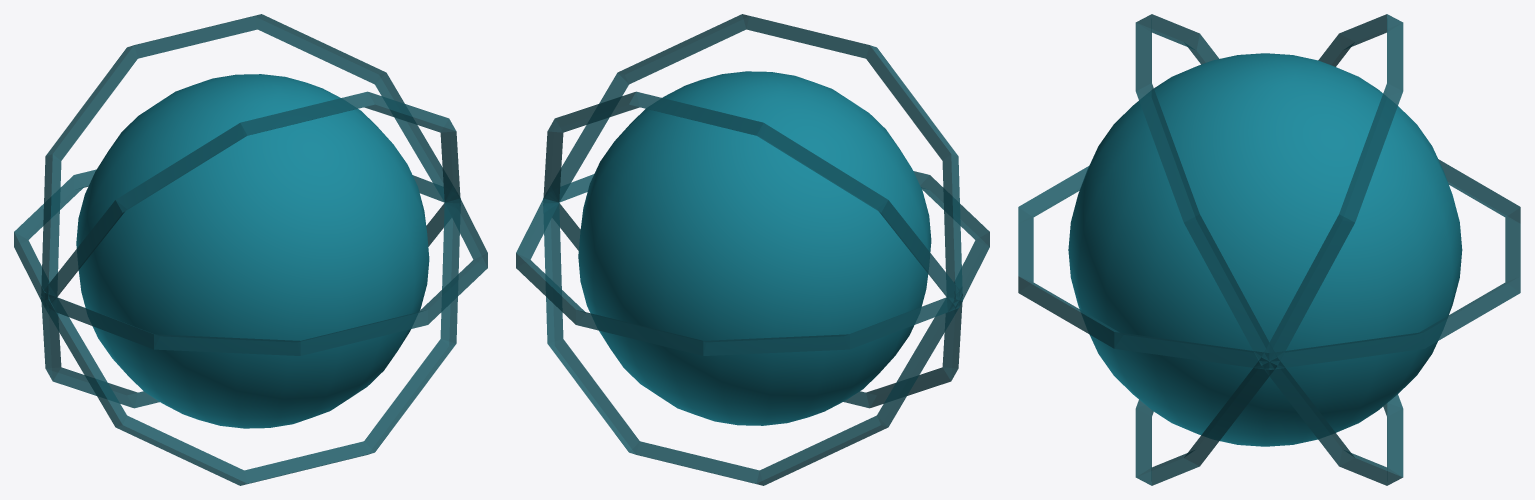
File: FirstStage.fbx
The picture shows the model from 3 angles, left to right: view 1: azimuth 30°, elevation 25°; view 2: azimuth 150°, elevation 25°; view 3: azimuth 270°, elevation 25°; orthographic projection. The views are drawn at different scales.
Parts seen in each view (by area): view 1: pSphere9, pTorus7, pTorus8, pTorus6; view 2: pSphere9, pTorus8, pTorus7, pTorus6; view 3: pSphere9, pTorus6, pTorus8, pTorus7.
Boxes of the visible parts, box(x1,y1,x2,y2) form: pSphere9: box(76, 74, 429, 428); pTorus7: box(41, 14, 460, 485); pTorus8: box(41, 91, 460, 408); pTorus6: box(14, 169, 487, 355); pSphere9: box(578, 71, 931, 425); pTorus8: box(543, 14, 962, 485); pTorus7: box(543, 91, 962, 408); pTorus6: box(516, 171, 989, 355); pSphere9: box(1068, 53, 1462, 446); pTorus6: box(1018, 159, 1520, 369); pTorus8: box(1135, 14, 1403, 485); pTorus7: box(1135, 14, 1403, 485).
Size of the model in its own units: 2.68 by 2.26 by 2.55.
